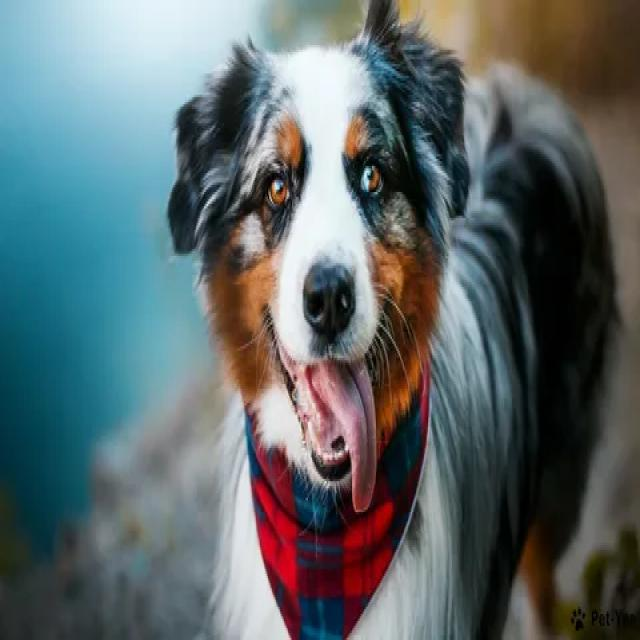Dog: (166, 16, 458, 518)
